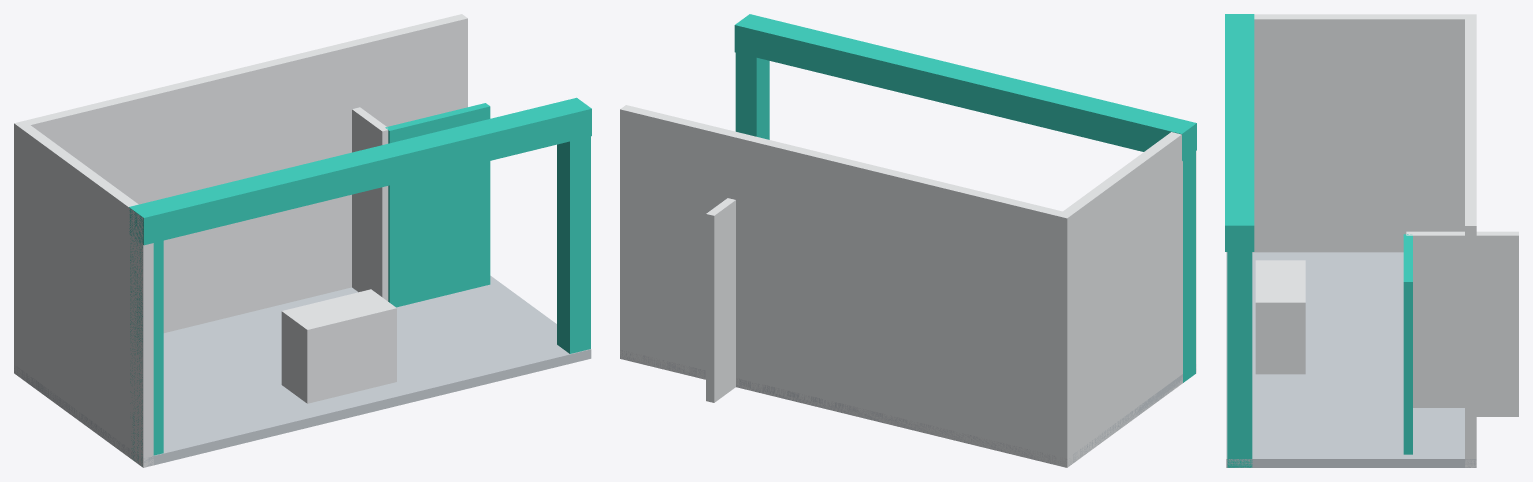
The picture shows the model from 3 angles, left to right: view 1: azimuth 30°, elevation 25°; view 2: azimuth 150°, elevation 25°; view 3: azimuth 270°, elevation 25°; orthographic projection. The views are drawn at different scales.
Parts seen in each view (by area): view 1: Exhibition Booth Concept; view 2: Exhibition Booth Concept; view 3: Exhibition Booth Concept.
Boxes of the visible parts, x1,y1,x2,y2 form: Exhibition Booth Concept: (14, 14, 591, 467); Exhibition Booth Concept: (620, 14, 1196, 467); Exhibition Booth Concept: (1225, 14, 1518, 467).
Size of the model in its own units: 6 by 3.2 by 3.52.
